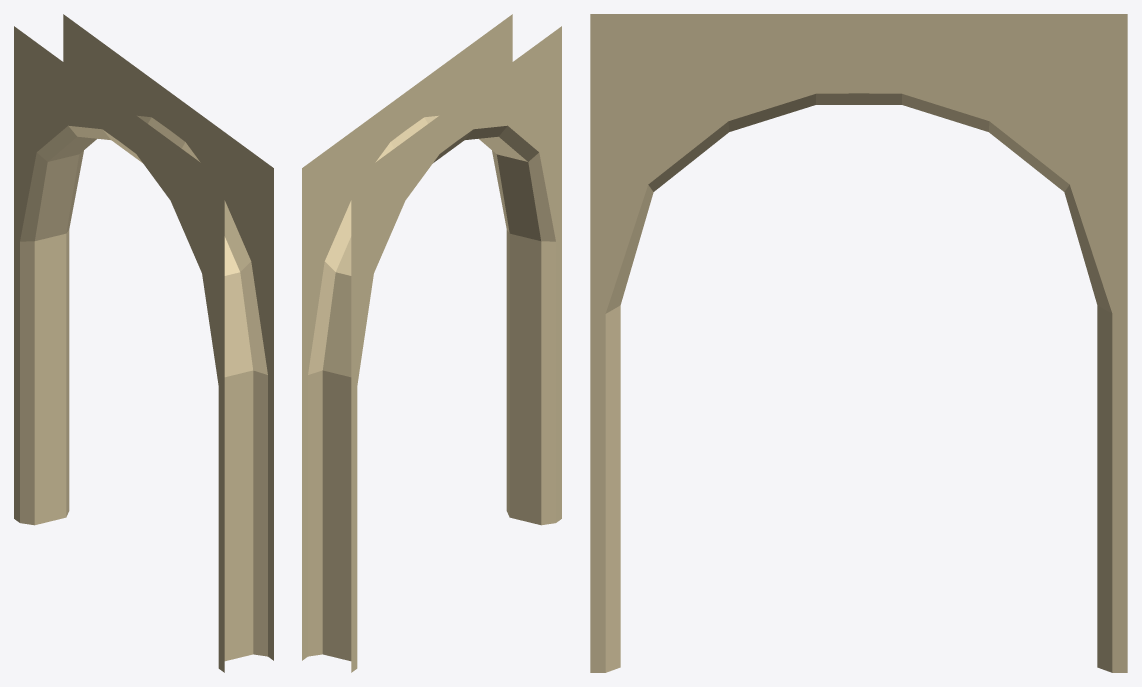
Rendered from Museum_Ark_03.fbx.
The picture shows the model from 3 angles, left to right: view 1: azimuth 30°, elevation 25°; view 2: azimuth 150°, elevation 25°; view 3: azimuth 270°, elevation 25°; orthographic projection. The views are drawn at different scales.
Visible parts, largest first — view 1: Archi_Arches.003; view 2: Archi_Arches.003; view 3: Archi_Arches.003.
Boxes of the visible parts, x1=… form: Archi_Arches.003: x1=14, y1=14, x2=273, y2=672; Archi_Arches.003: x1=302, y1=14, x2=561, y2=672; Archi_Arches.003: x1=590, y1=14, x2=1127, y2=672.
Bounding box in the file's own units: 72.18 × 690 × 535.
